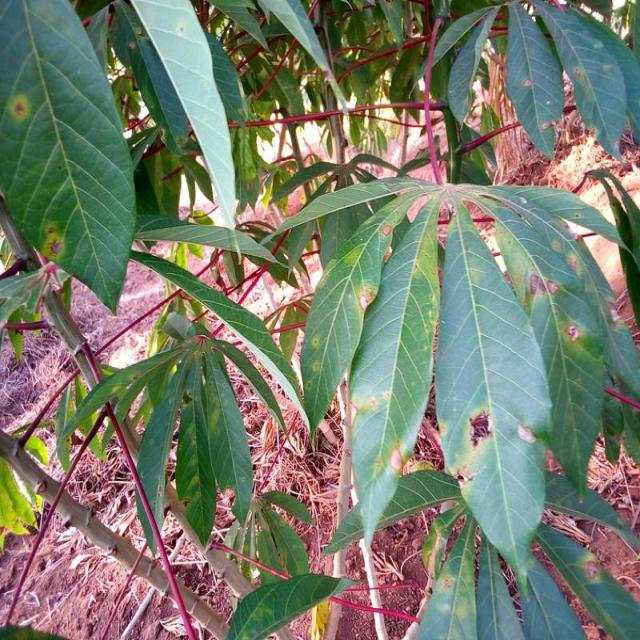cassava leaf: (433, 197, 552, 594), (0, 0, 137, 316), (488, 194, 616, 498), (345, 189, 442, 551), (128, 0, 237, 230)
